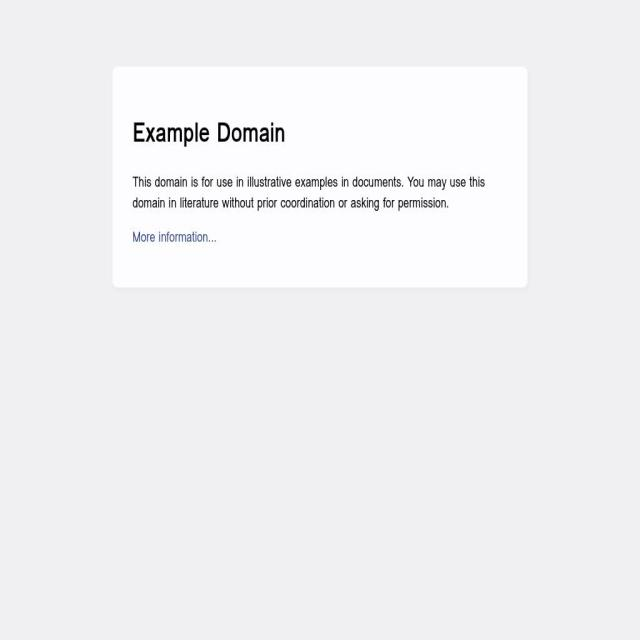heading: (132, 111, 508, 154)
link: (132, 226, 216, 247)
text: (132, 171, 508, 213)
